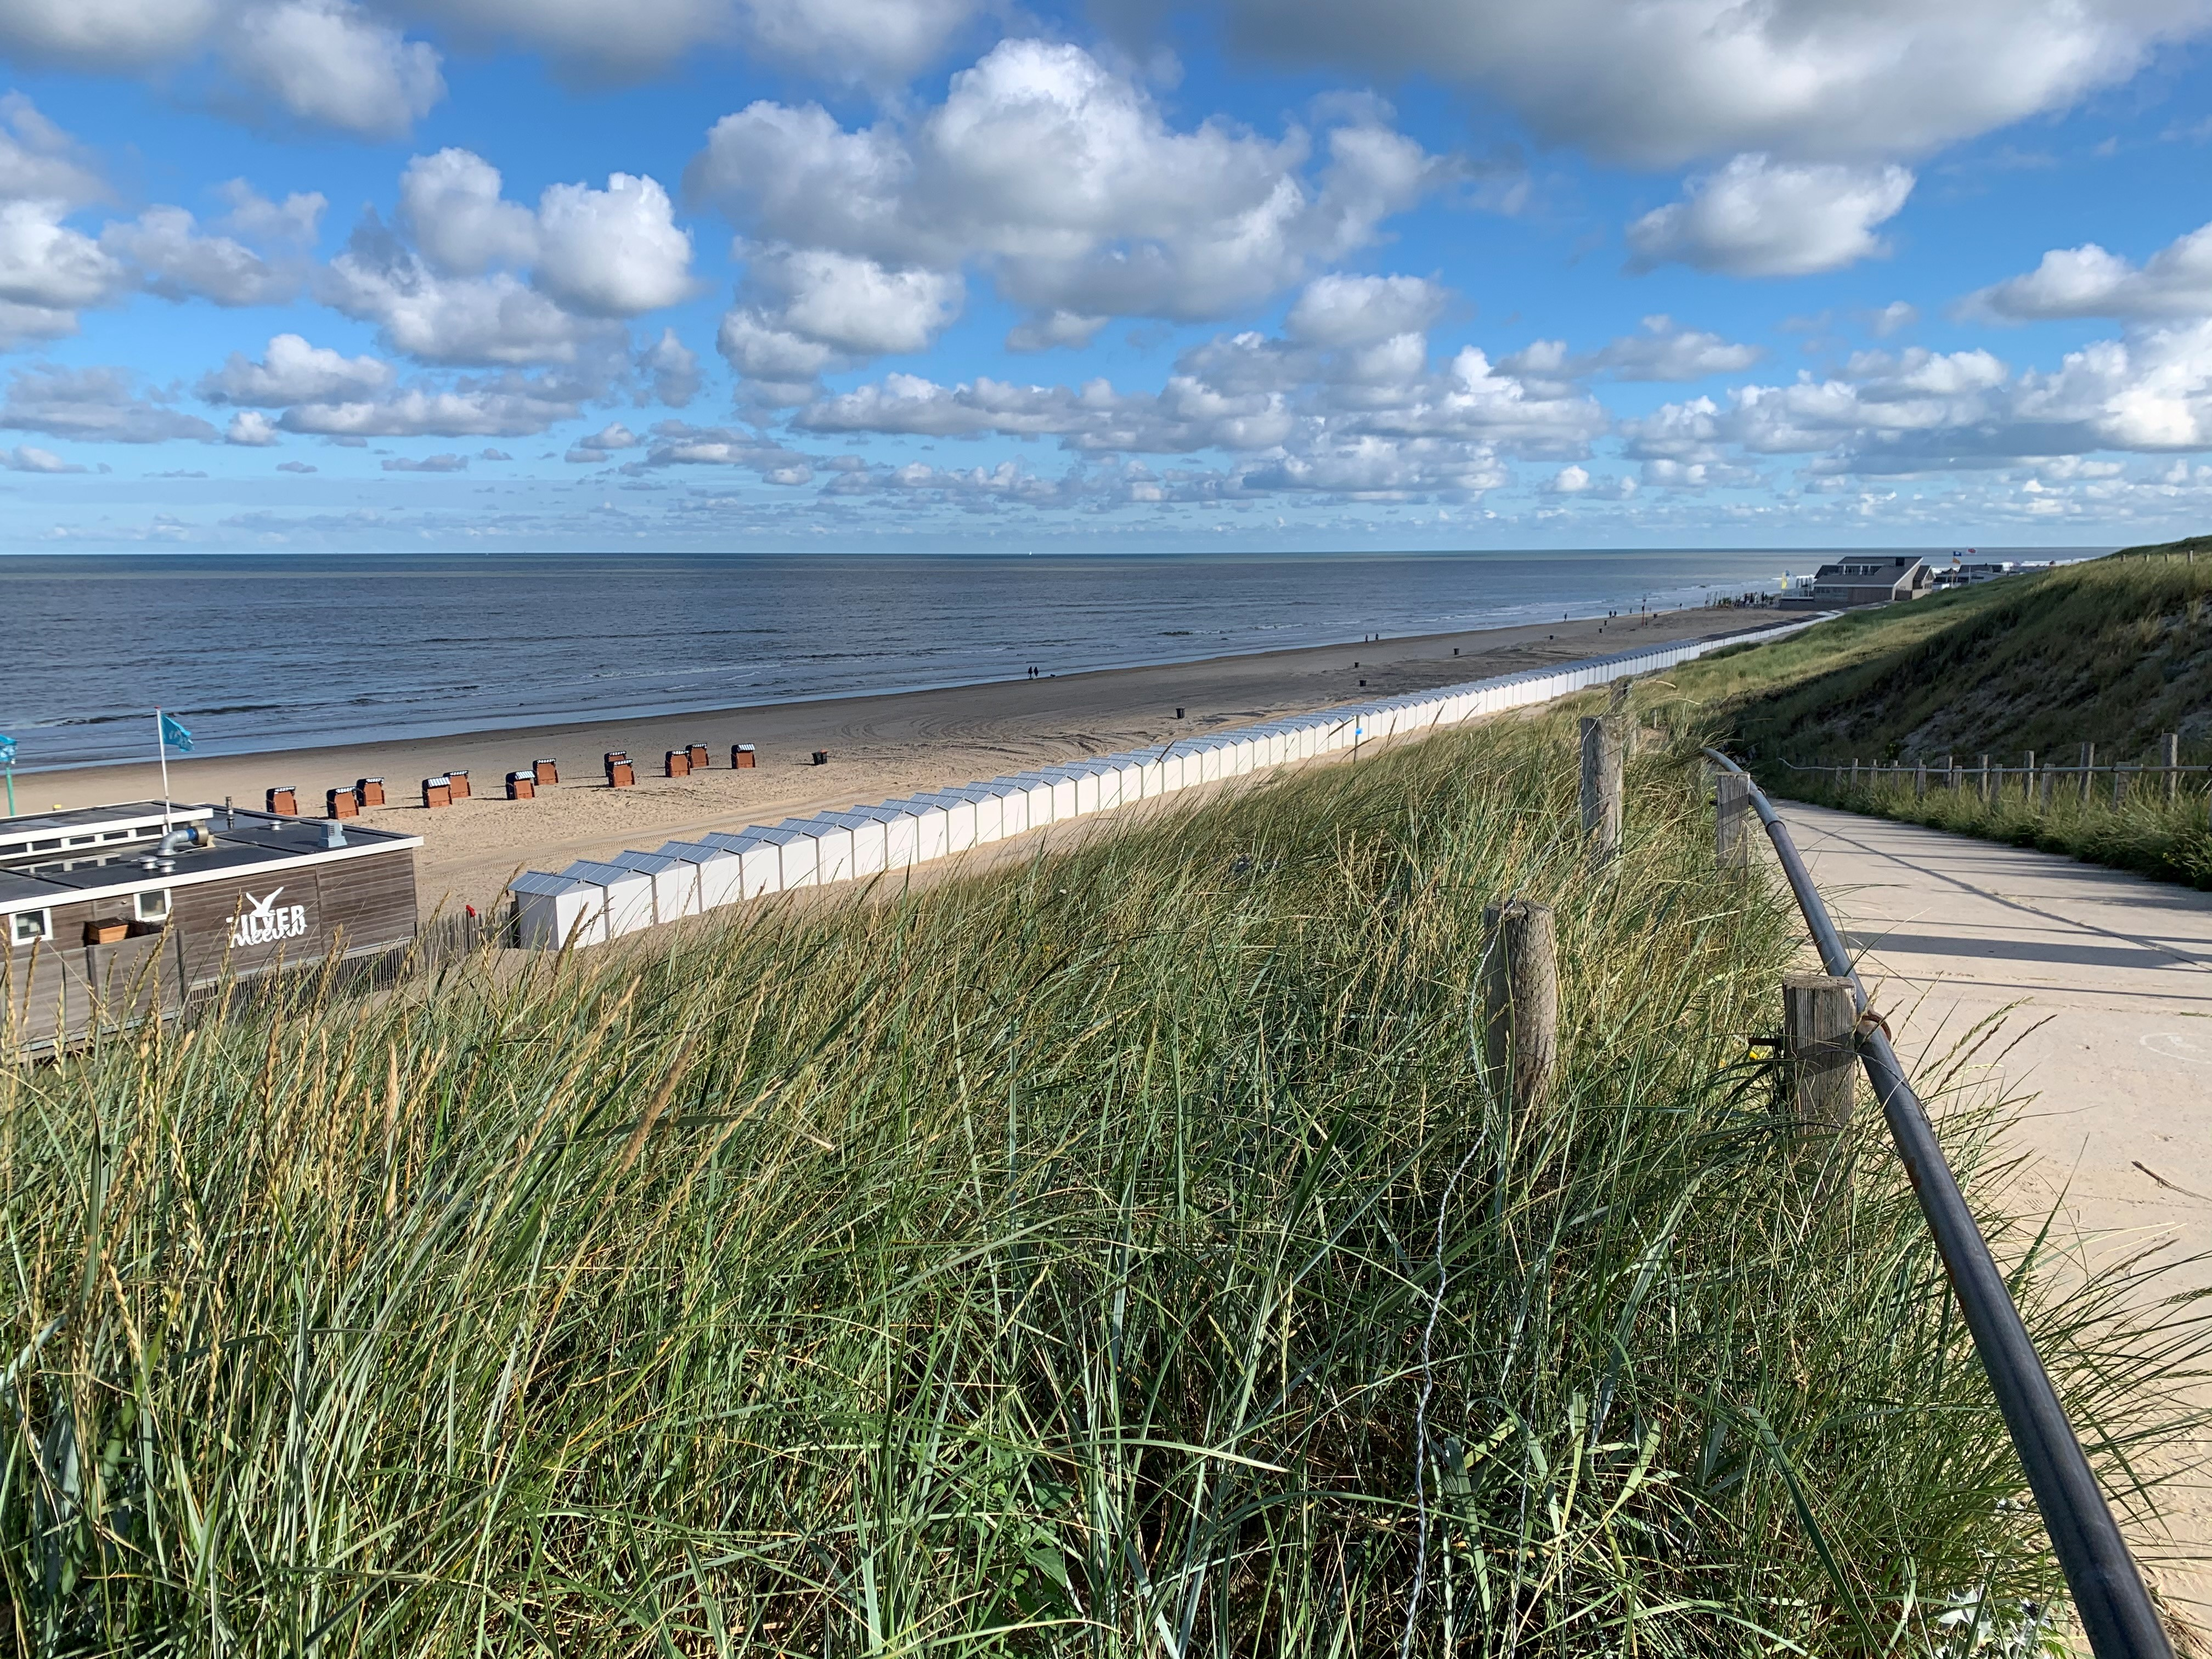zilvermeeuw: (2, 784, 482, 1096)
